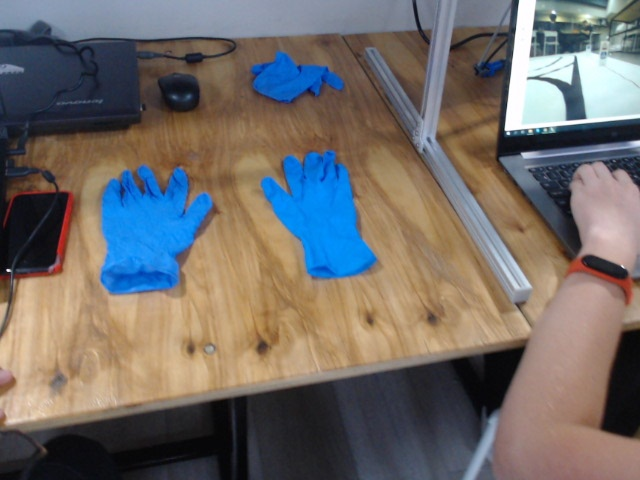medical_glove: (262, 150, 378, 278), (101, 165, 213, 294)
